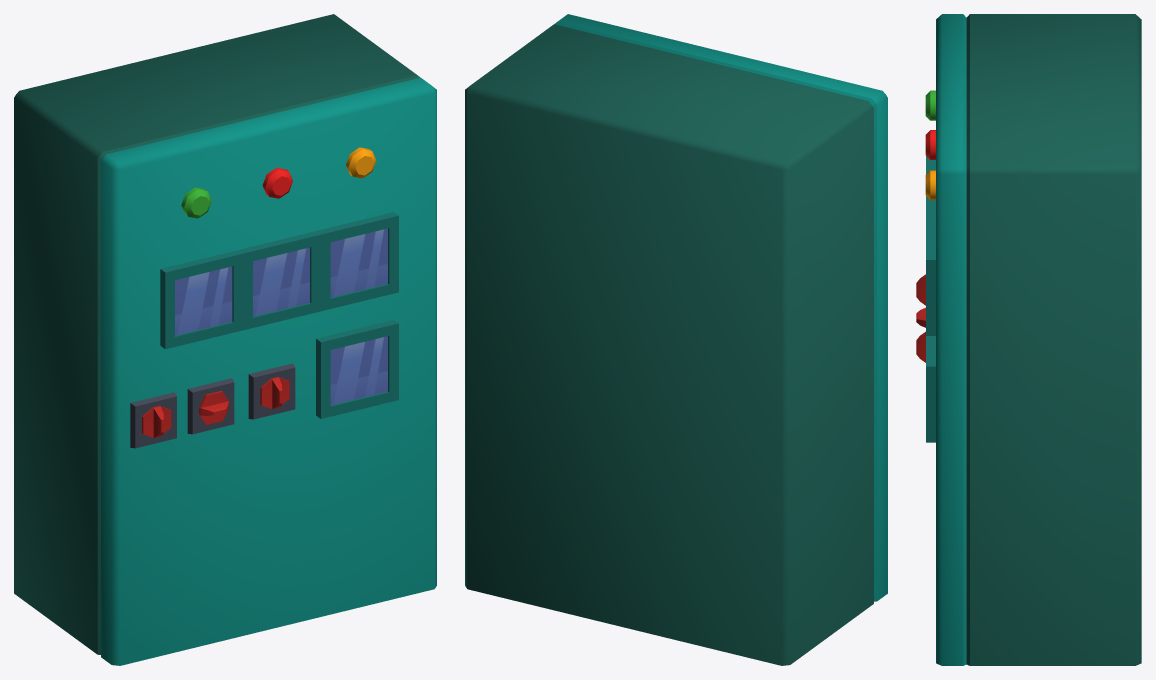
File: ElectricBox_3_C_1.fbx
The picture shows the model from 3 angles, left to right: view 1: azimuth 30°, elevation 25°; view 2: azimuth 150°, elevation 25°; view 3: azimuth 270°, elevation 25°; orthographic projection.
Visible parts, largest first — view 1: ElectricBox_3_C_1; view 2: ElectricBox_3_C_1; view 3: ElectricBox_3_C_1.
Boxes of the visible parts, box(x1,y1,x2,y2) form: ElectricBox_3_C_1: box(14, 14, 436, 665); ElectricBox_3_C_1: box(465, 14, 887, 665); ElectricBox_3_C_1: box(916, 14, 1141, 665).
Bounding box in the file's own units: 102 × 150 × 61.6.
